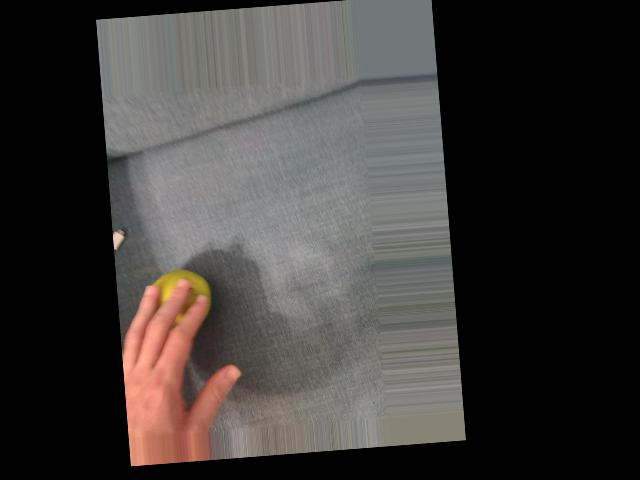apple: (148, 253, 219, 344)
